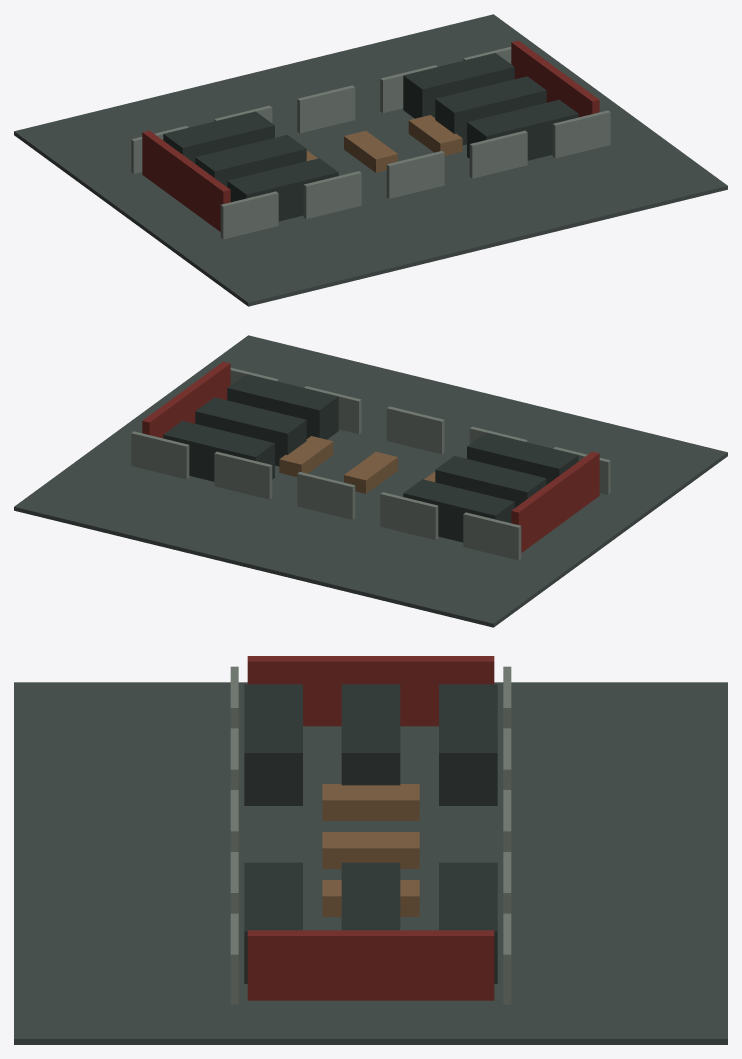
The model's file is killhouse_optimized.glb.
3 views of the same model, one above another, from view 1: azimuth 30°, elevation 25°; view 2: azimuth 150°, elevation 25°; view 3: azimuth 270°, elevation 25° (orthographic). The views are drawn at different scales.
Parts seen in each view (by area): view 1: ground, room_block (×6), training_wall_back (×5), red_gate (×2), training_wall (×3), cover (×2); view 2: ground, room_block (×6), training_wall (×5), red_gate (×2), training_wall_back (×3), cover (×2); view 3: ground, room_block (×6), red_gate (×2), cover (×3), training_wall, training_wall_back.
Part boxes in pixels (box(x1,y1,x2,y2)): ground: box(14, 14, 727, 306); room_block (×6): box(163, 53, 578, 221); training_wall_back (×5): box(220, 110, 610, 239); red_gate (×2): box(142, 40, 599, 231); training_wall (×3): box(131, 65, 437, 173); cover (×2): box(344, 115, 462, 172); ground: box(14, 335, 727, 627); room_block (×6): box(163, 374, 578, 542); training_wall (×5): box(131, 431, 521, 560); red_gate (×2): box(142, 361, 599, 552); training_wall_back (×3): box(304, 386, 610, 494); cover (×2): box(279, 436, 397, 493); ground: box(14, 682, 727, 1044); room_block (×6): box(244, 684, 497, 983); red_gate (×2): box(247, 656, 494, 1000); cover (×3): box(322, 784, 419, 916); training_wall: box(503, 913, 511, 1004); training_wall_back: box(230, 913, 238, 1004).
Size of the model in its own units: 2600 by 240 by 2200.
